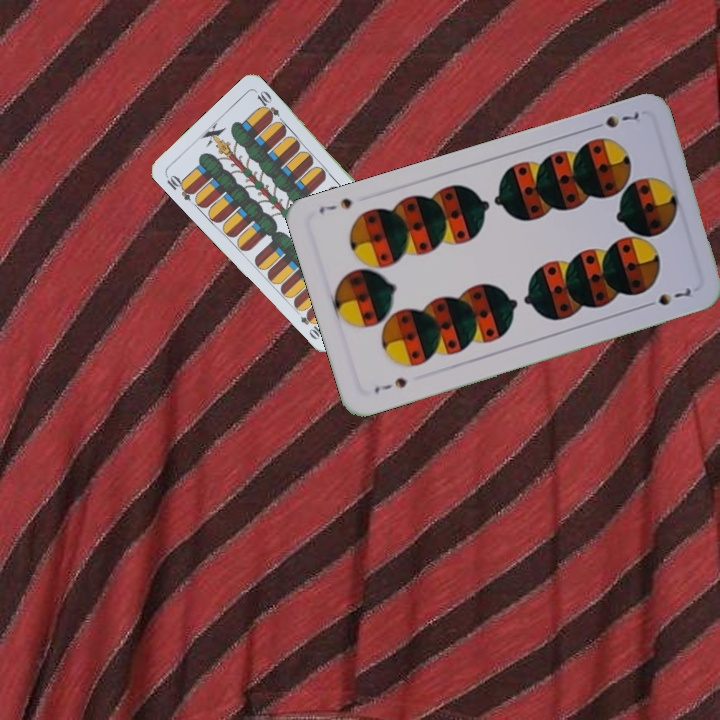E10: (161, 170, 197, 203)
S7: (587, 108, 642, 133), (370, 373, 410, 396)
